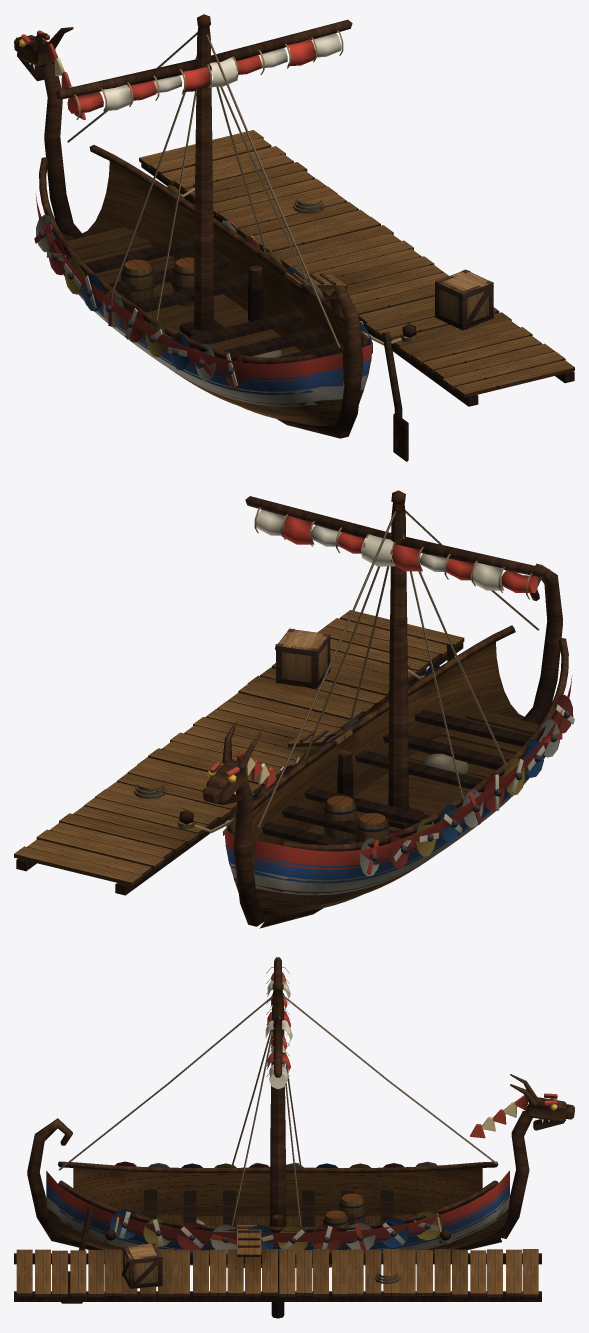
File: skaldhaven_longship_moored.glb
3 views of the same model, one above another, from view 1: azimuth 30°, elevation 25°; view 2: azimuth 150°, elevation 25°; view 3: azimuth 270°, elevation 25° (orthographic). The views are drawn at different scales.
Visible parts, largest first — view 1: skaldhaven_longship_moored; view 2: skaldhaven_longship_moored; view 3: skaldhaven_longship_moored.
Boxes of the visible parts, left/top/right/bottom form: skaldhaven_longship_moored: left=14, top=14, right=574, bottom=461; skaldhaven_longship_moored: left=14, top=490, right=574, bottom=928; skaldhaven_longship_moored: left=14, top=957, right=574, bottom=1318.
Size of the model in its own units: 5.16 by 5.39 by 8.71.
Materials: 4 (3 with a texture image).
